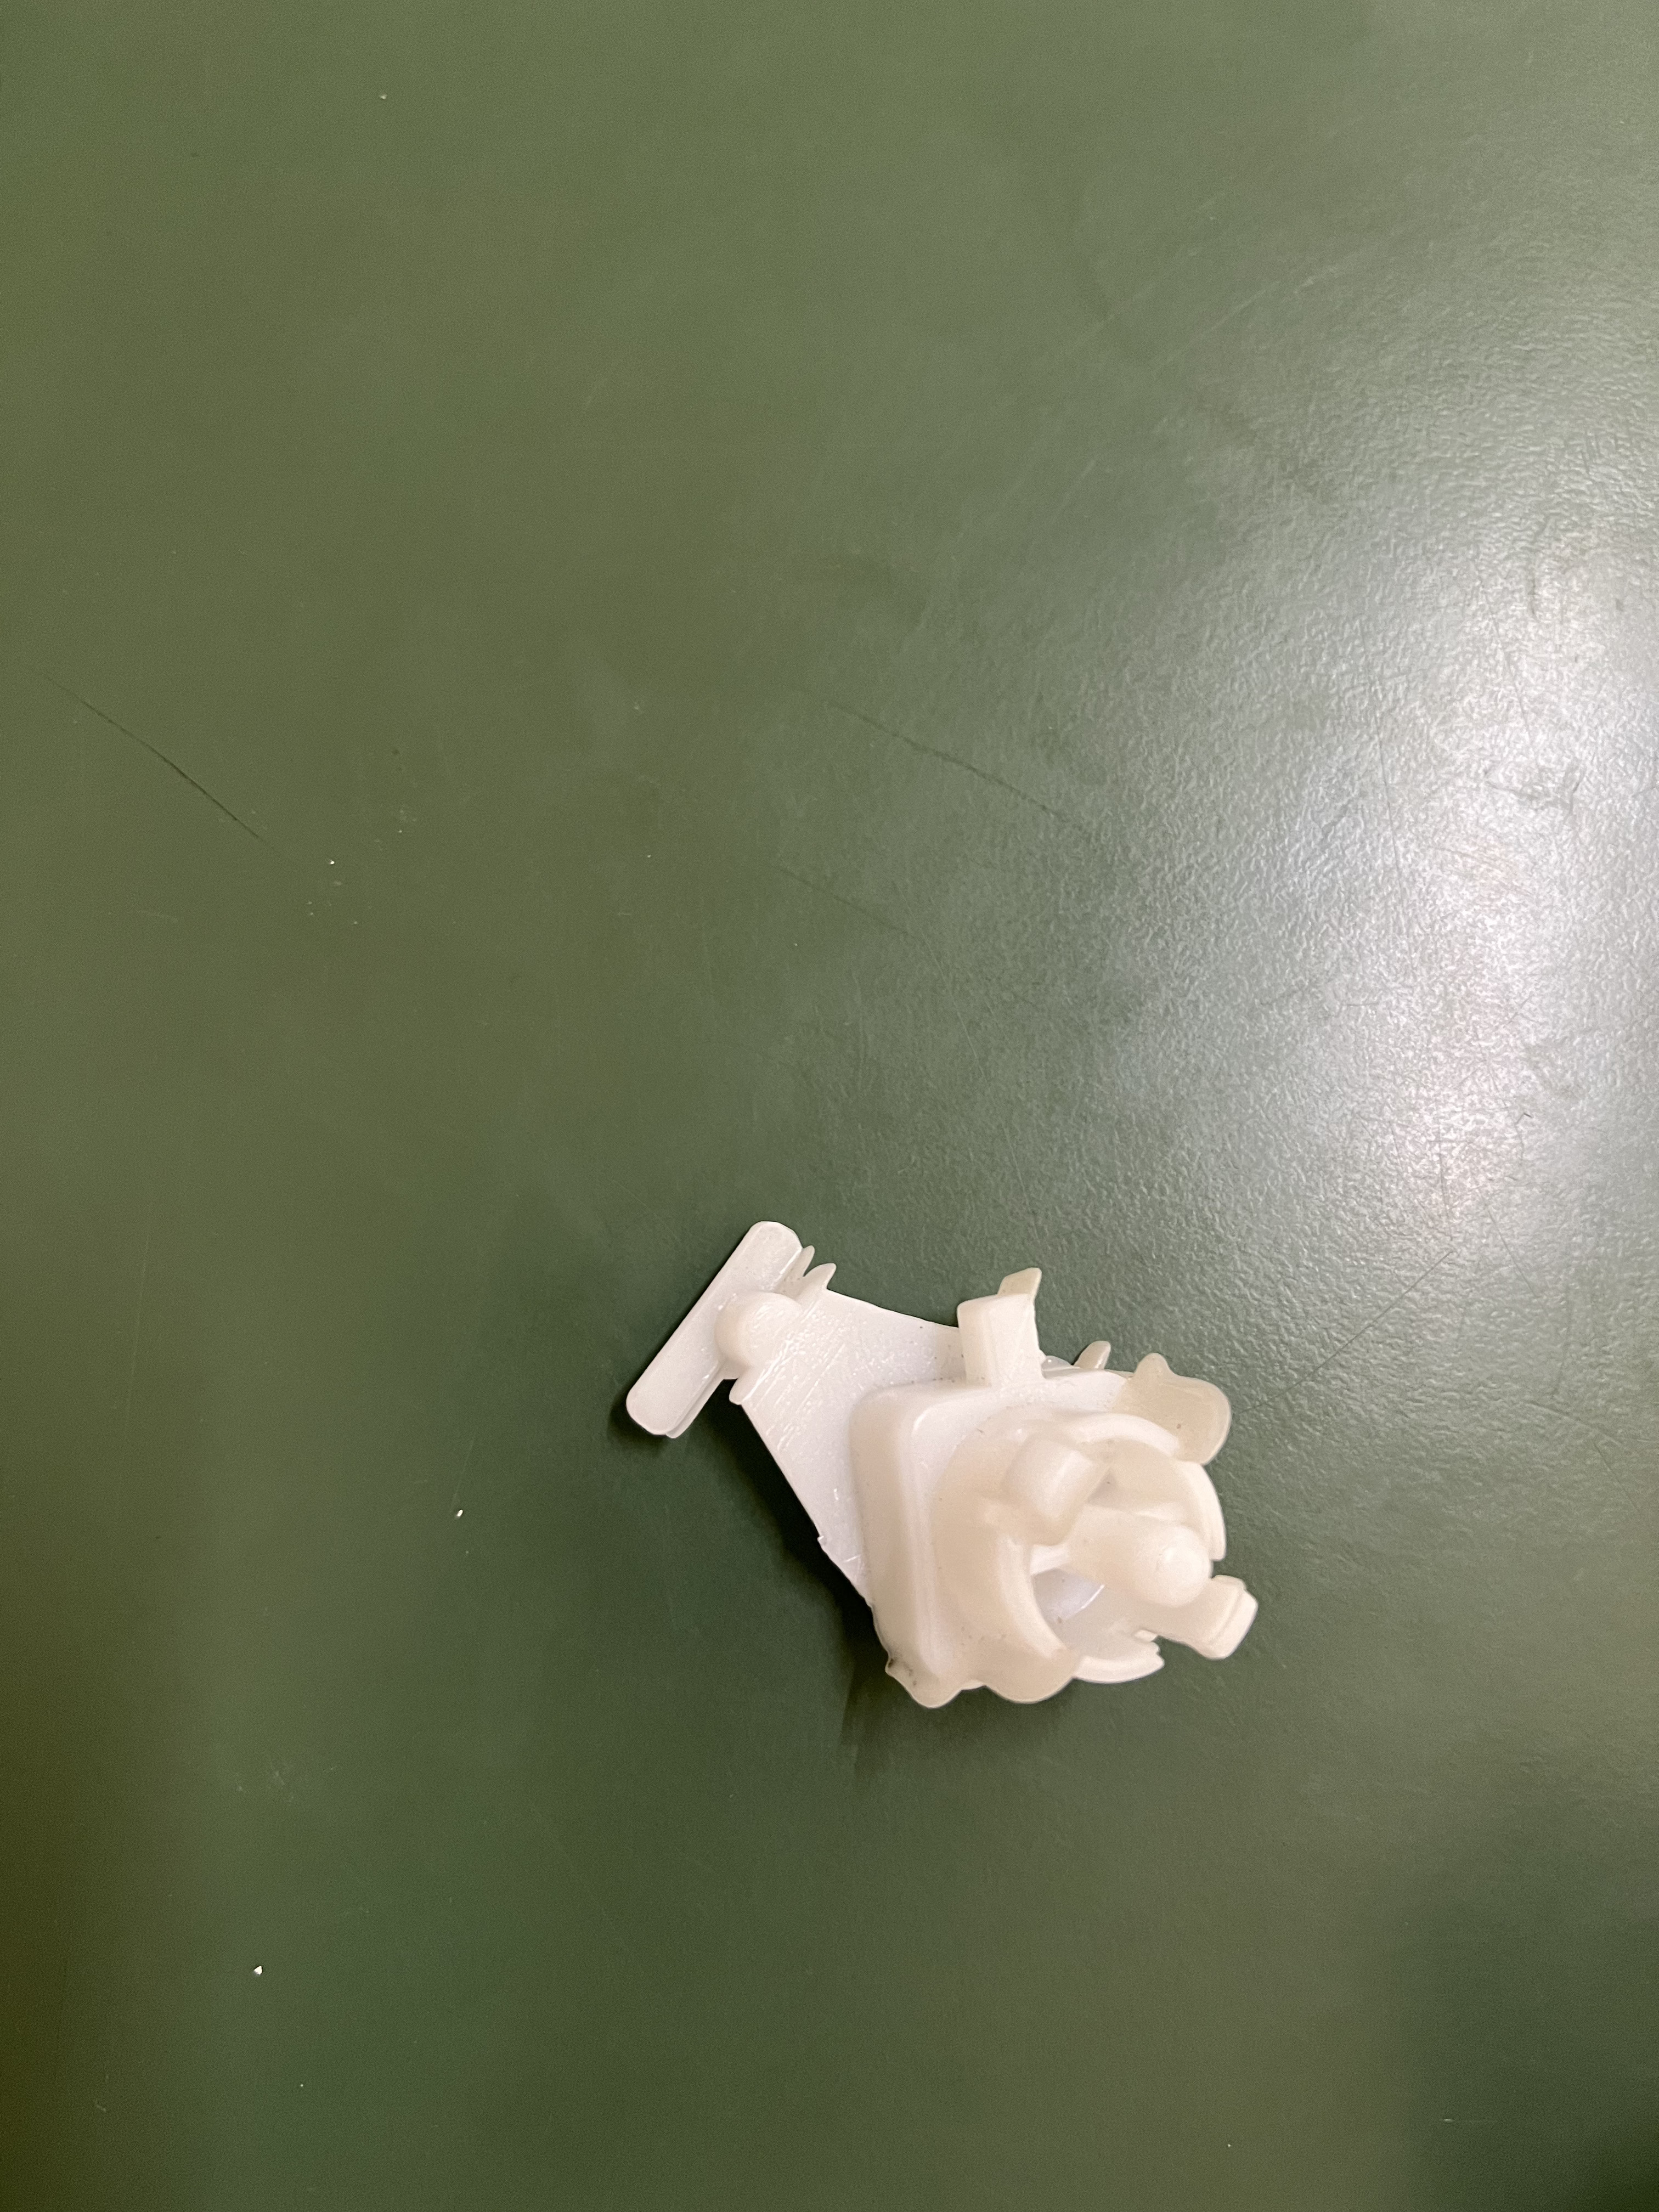drain_lever: (610, 1207, 1291, 1721)
